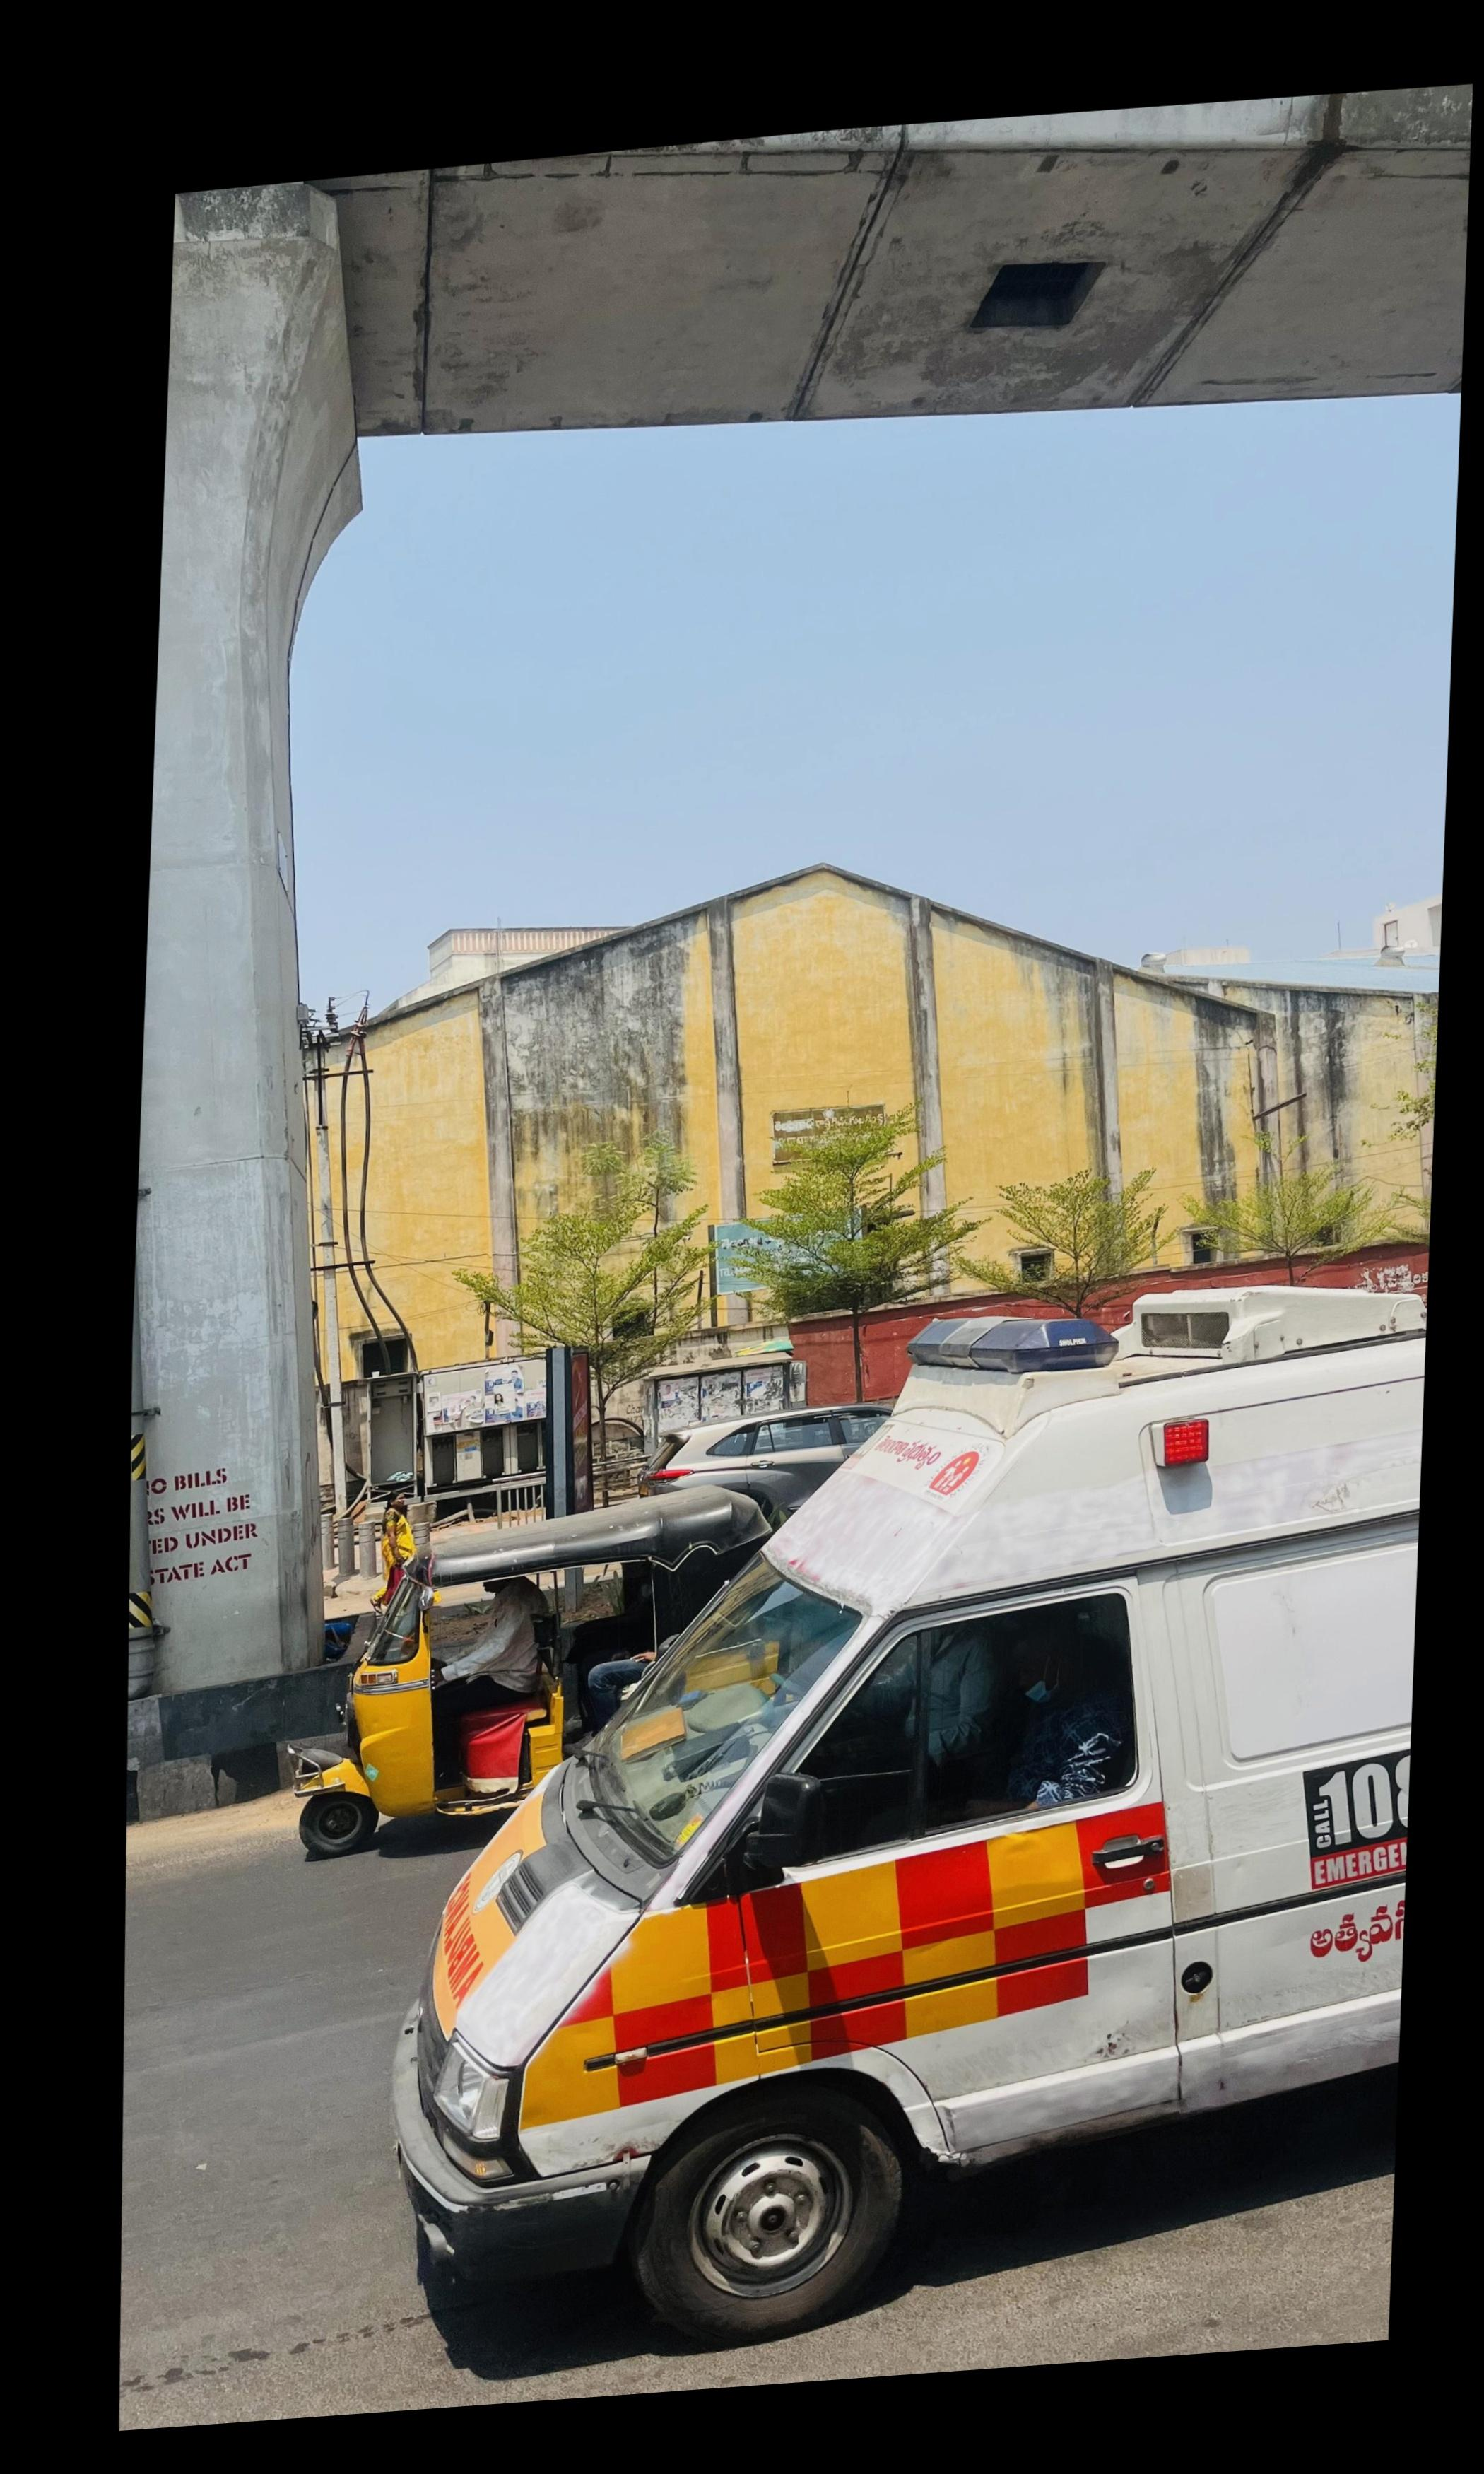ambulance: (389, 1288, 1420, 2338)
